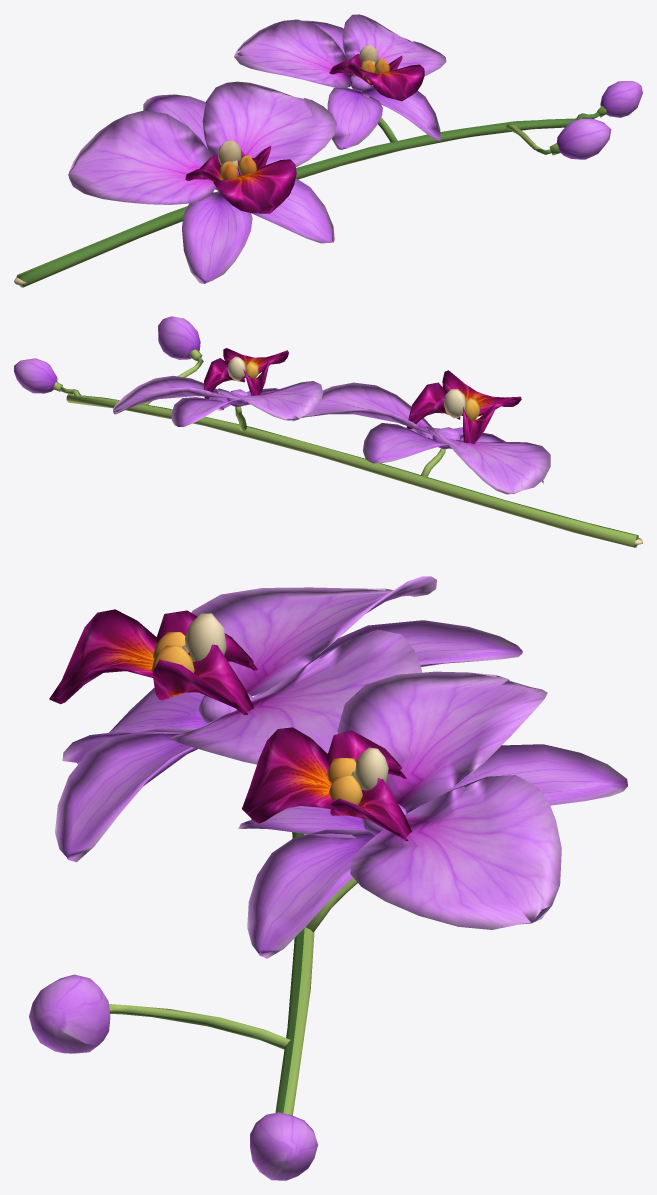
File: NP_Orchid_Harvest_LOD1.fbx
3 views of the same model, one above another, from view 1: azimuth 30°, elevation 25°; view 2: azimuth 150°, elevation 25°; view 3: azimuth 270°, elevation 25° (orthographic). The views are drawn at different scales.
Visible parts, largest first — view 1: NP_Orchid_Harvest; view 2: NP_Orchid_Harvest; view 3: NP_Orchid_Harvest.
Part boxes in pixels (x1=…): NP_Orchid_Harvest: x1=14, y1=14, x2=642, y2=287; NP_Orchid_Harvest: x1=14, y1=316, x2=642, y2=547; NP_Orchid_Harvest: x1=29, y1=576, x2=627, y2=1180.
Size of the model in its own units: 95.01 by 18.49 by 39.84.
1 material, 1 textured.
